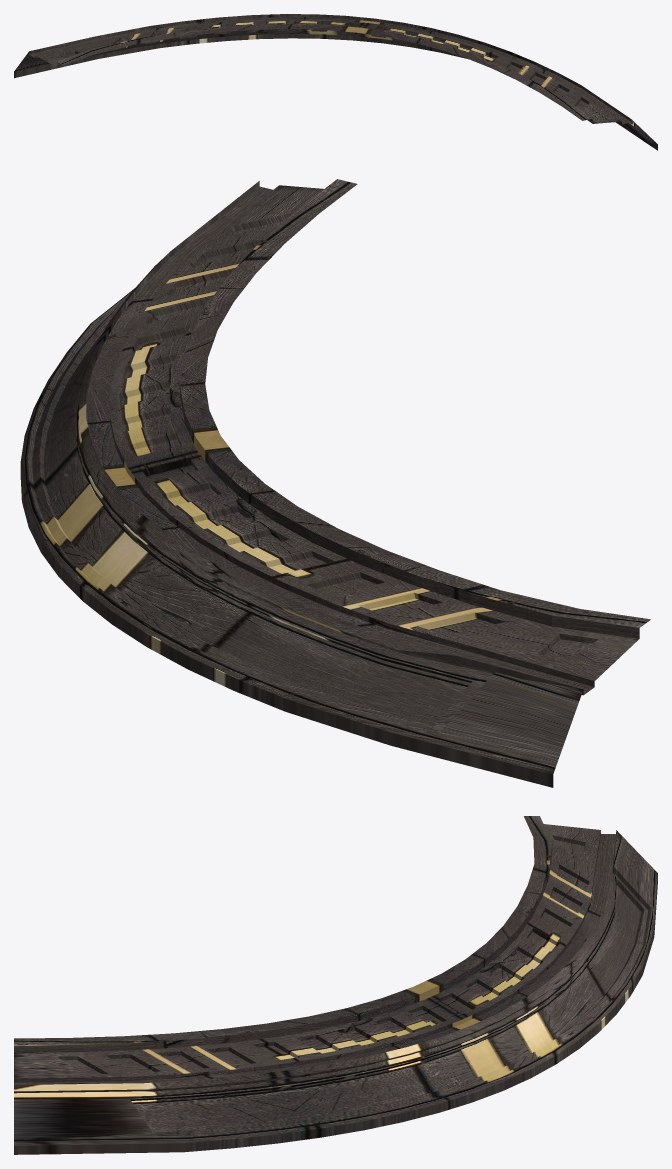
The model's file is Moulding_01_OuterBevel.FBX.
3 renders of one model, top to bottom at view 1: azimuth 30°, elevation 25°; view 2: azimuth 150°, elevation 25°; view 3: azimuth 270°, elevation 25°, orthographic. The views are drawn at different scales.
Visible parts, largest first — view 1: Moulding_90degreeOuterBevel; view 2: Moulding_90degreeOuterBevel; view 3: Moulding_90degreeOuterBevel.
Boxes of the visible parts, box(x1,y1,x2,y2) form: Moulding_90degreeOuterBevel: box(14, 14, 657, 150); Moulding_90degreeOuterBevel: box(20, 179, 650, 787); Moulding_90degreeOuterBevel: box(14, 816, 657, 1154).
Size of the model in its own units: 387 by 43.74 by 386.
